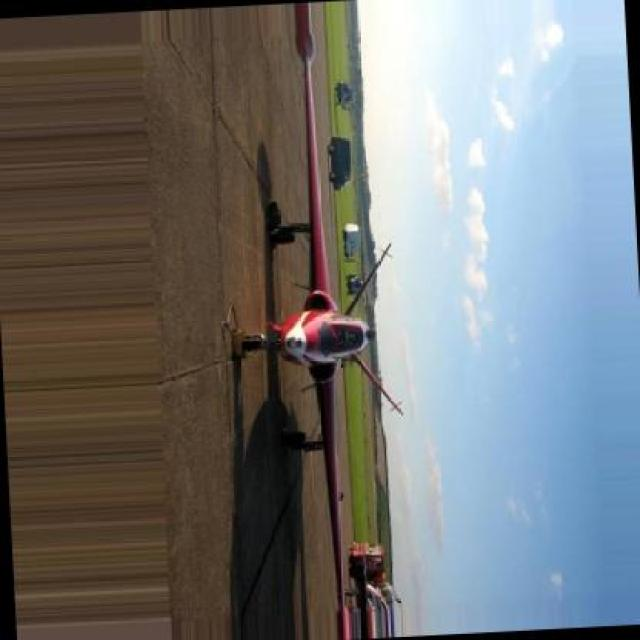iha: (224, 1, 409, 640)
